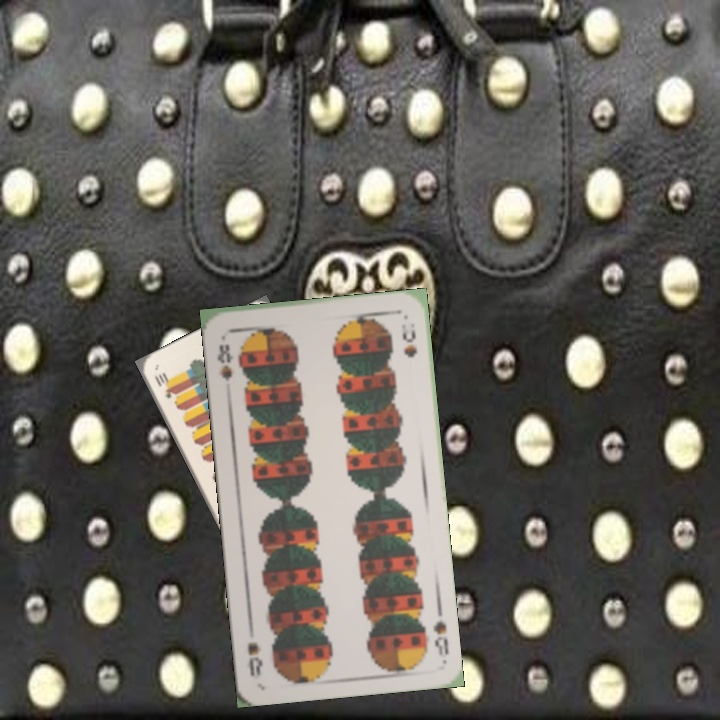E10: (151, 369, 175, 401)
S8: (213, 340, 236, 383), (429, 617, 452, 658)
